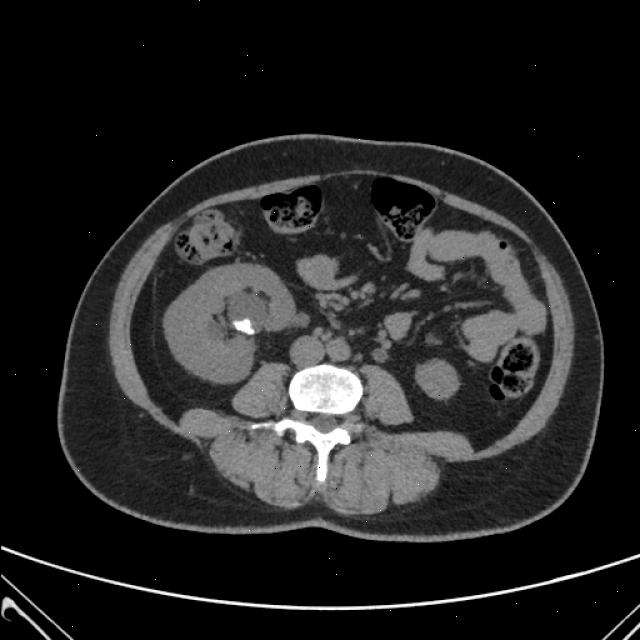kidneystone: (232, 319, 254, 334)
